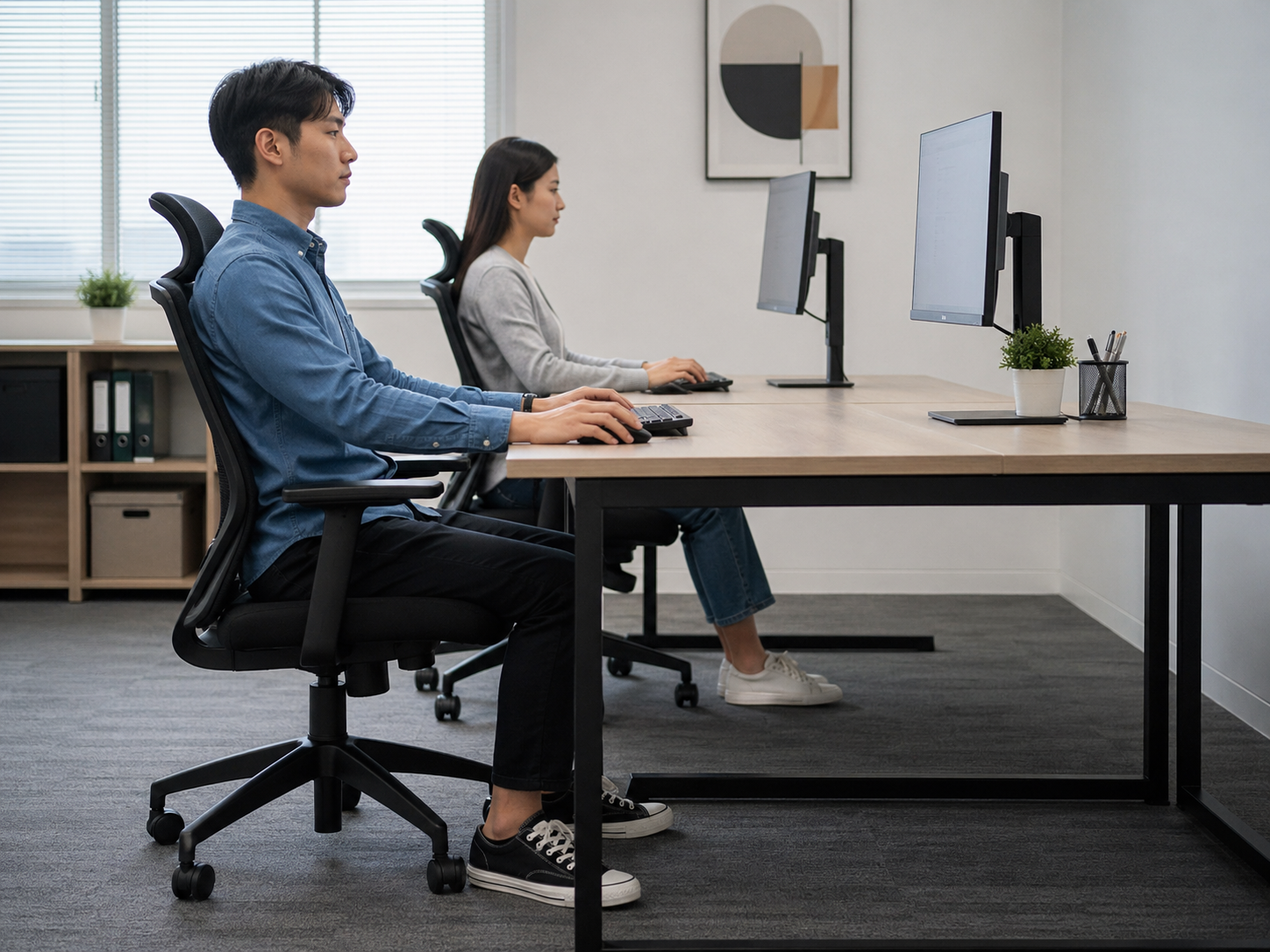sitting_good: (146, 50, 573, 906), (418, 110, 699, 469)
